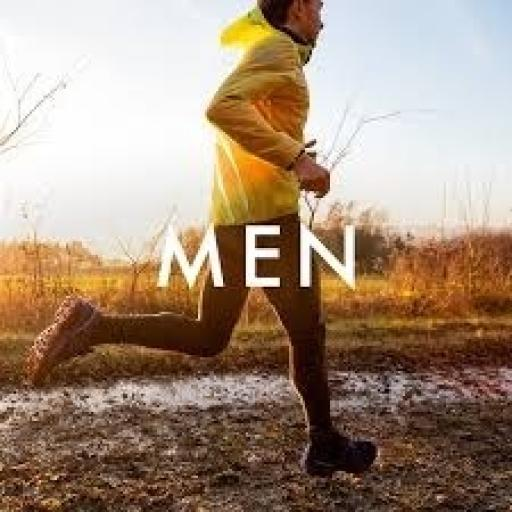running: (20, 0, 382, 480)
